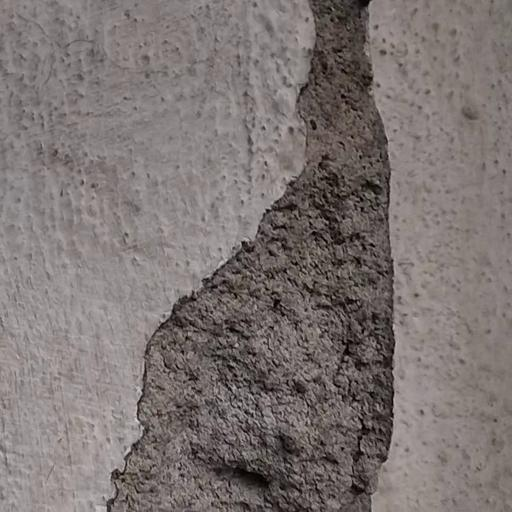spalling: (106, 0, 399, 512)
